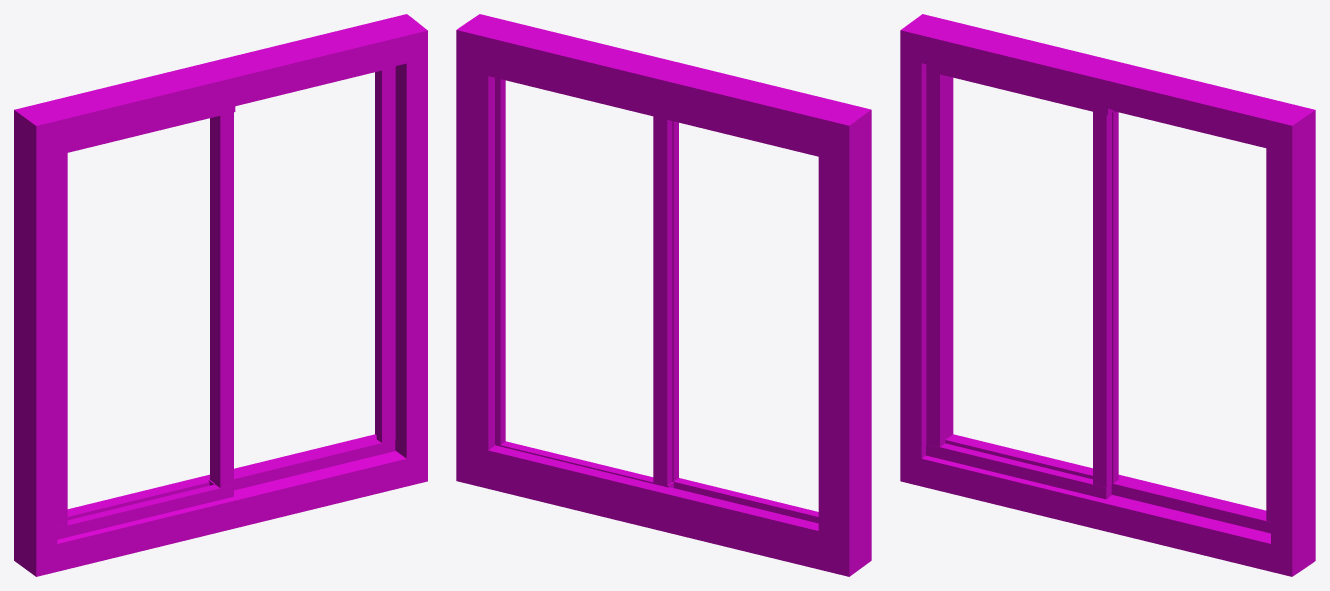
Rendered from Window_B_03.fbx.
3 renders of one model, left to right at view 1: azimuth 30°, elevation 25°; view 2: azimuth 150°, elevation 25°; view 3: azimuth 330°, elevation 25°, orthographic.
Visible parts, largest first — view 1: Window_B_03; view 2: Window_B_03; view 3: Window_B_03.
Part boxes in pixels (box(x1,y1,x2,y2)): Window_B_03: box(14, 14, 427, 576); Window_B_03: box(456, 14, 871, 576); Window_B_03: box(900, 14, 1315, 576).
Bounding box in the file's own units: 111 × 121 × 10.81.
